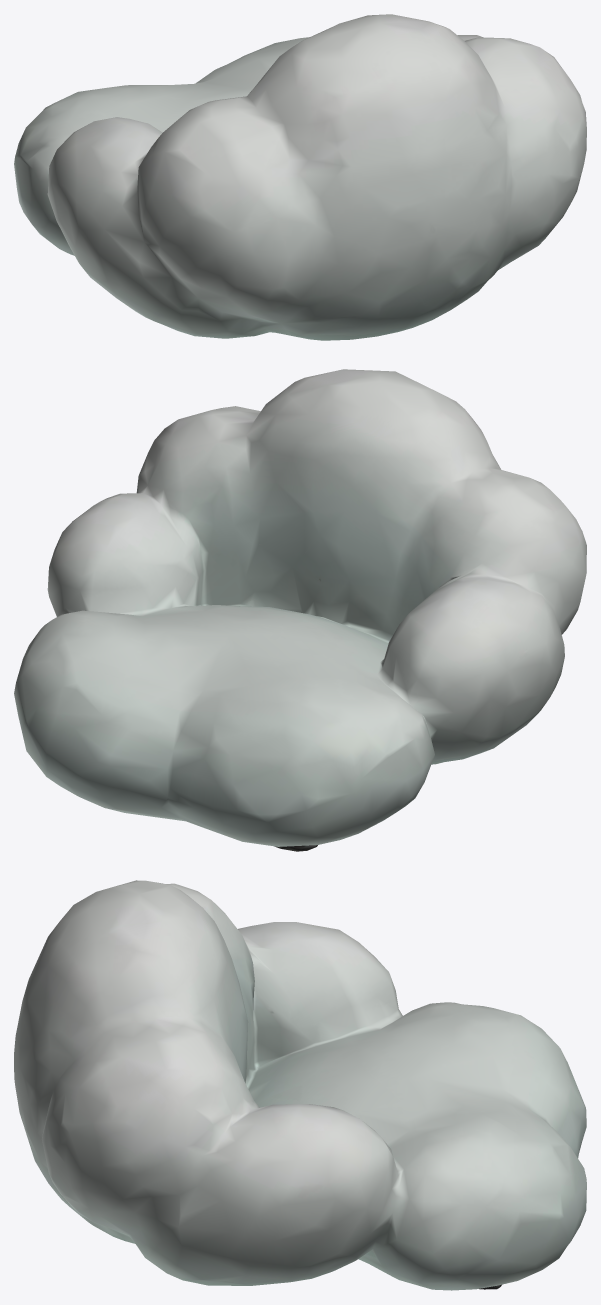
The model's file is glb-lounge-chair.glb.
3 views of the same model, one above another, from view 1: azimuth 30°, elevation 25°; view 2: azimuth 150°, elevation 25°; view 3: azimuth 270°, elevation 25° (orthographic). The views are drawn at different scales.
Parts seen in each view (by area): view 1: tripo_node_6ccf86f1-7800-42ac-9dc2-f4dd9f4c4cd1; view 2: tripo_node_6ccf86f1-7800-42ac-9dc2-f4dd9f4c4cd1; view 3: tripo_node_6ccf86f1-7800-42ac-9dc2-f4dd9f4c4cd1.
Part boxes in pixels (box(x1,y1,x2,y2)): tripo_node_6ccf86f1-7800-42ac-9dc2-f4dd9f4c4cd1: box(14, 14, 586, 340); tripo_node_6ccf86f1-7800-42ac-9dc2-f4dd9f4c4cd1: box(14, 369, 586, 851); tripo_node_6ccf86f1-7800-42ac-9dc2-f4dd9f4c4cd1: box(14, 880, 586, 1290).
Bounding box in the file's own units: 1 × 0.6552 × 0.9982.
1 material, 1 textured.
